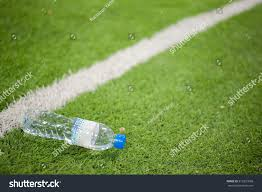plastic_bottle: (21, 108, 129, 155)
